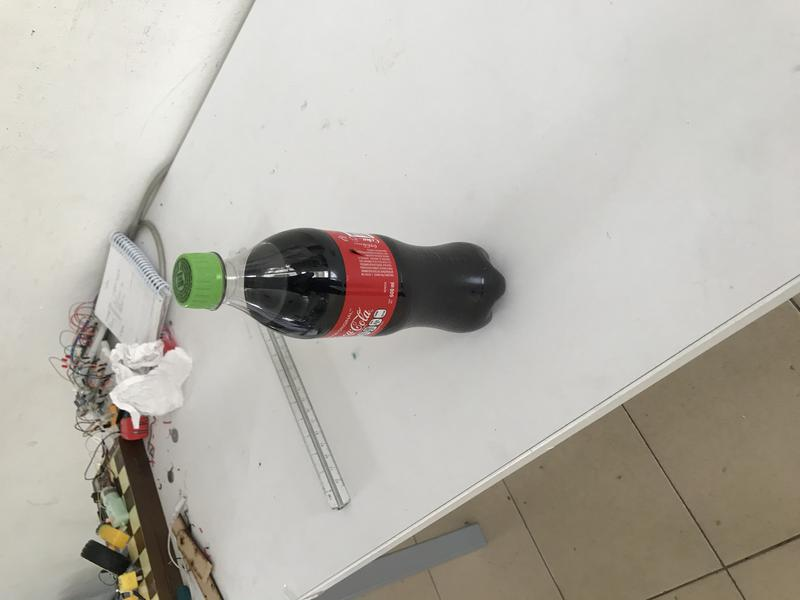coca_cola: (173, 228, 507, 340)
